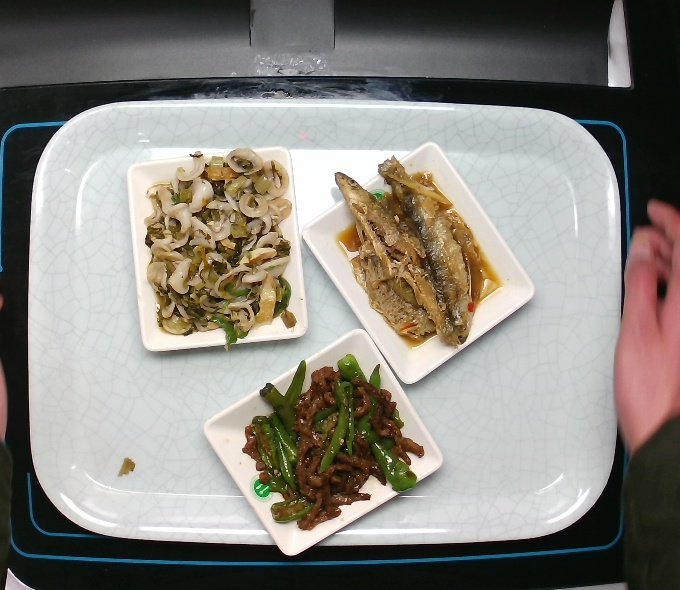wcq-QingJiaoNiuRou: (246, 364, 423, 528)
wcq-XiaoXiYu: (327, 152, 491, 354)
wcq-XueCaiYouYu: (136, 154, 295, 341)
